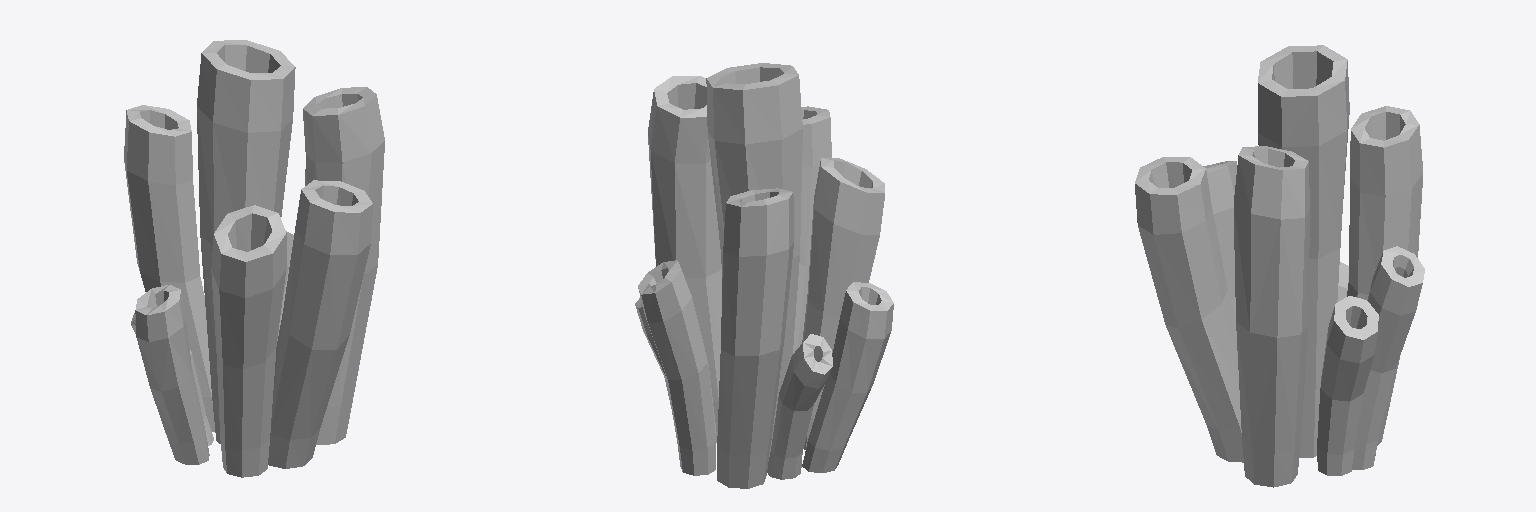
File: Coral_C_02_LOD1.obj
3 views of the same model, side by side, from view 1: azimuth 30°, elevation 25°; view 2: azimuth 150°, elevation 25°; view 3: azimuth 270°, elevation 25° (orthographic).
Visible parts, largest first — view 1: Coral_C_02_LOD1_Cylinder.397; view 2: Coral_C_02_LOD1_Cylinder.397; view 3: Coral_C_02_LOD1_Cylinder.397.
Part boxes in pixels (left/top/right/bottom): Coral_C_02_LOD1_Cylinder.397: left=124, top=40, right=384, bottom=477; Coral_C_02_LOD1_Cylinder.397: left=635, top=63, right=893, bottom=488; Coral_C_02_LOD1_Cylinder.397: left=1135, top=45, right=1424, bottom=487.
Bounding box in the file's own units: 3.75 × 5.83 × 3.94.